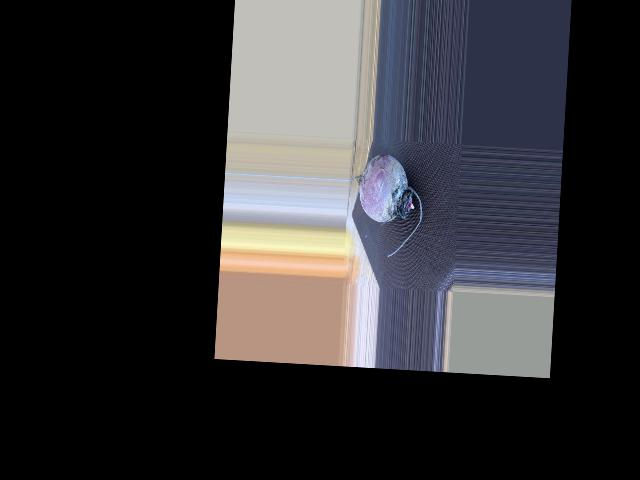beet: (344, 152, 426, 258)
